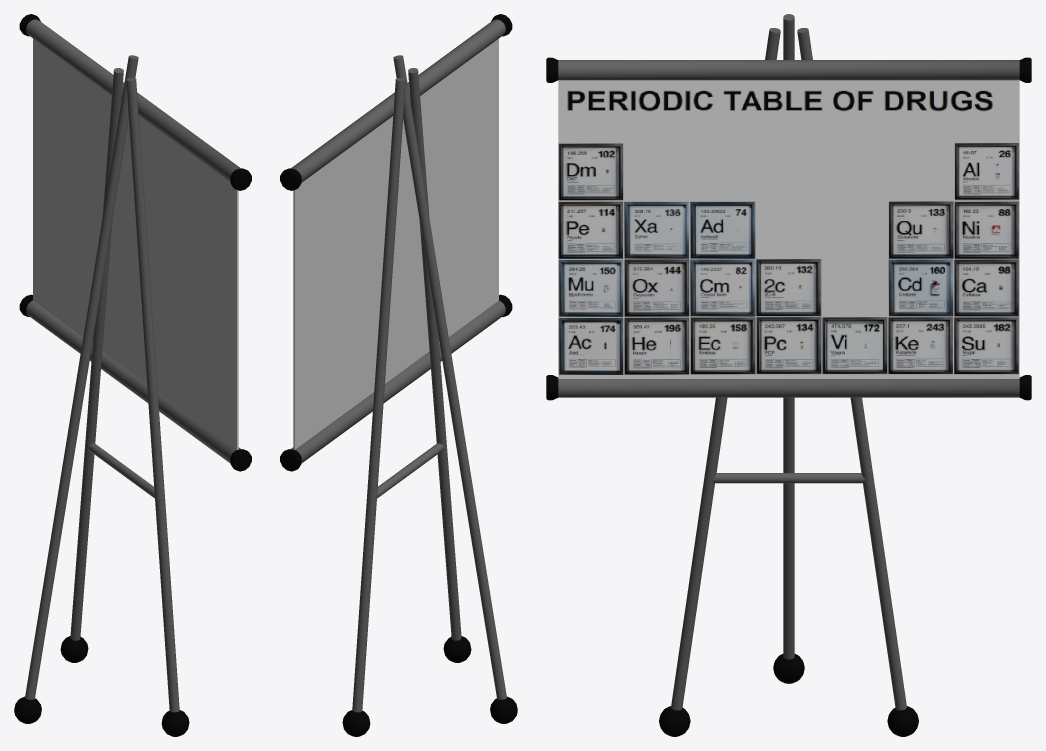
File: chart.fbx
3 views of the same model, side by side, from view 1: azimuth 30°, elevation 25°; view 2: azimuth 150°, elevation 25°; view 3: azimuth 270°, elevation 25° (orthographic). The views are drawn at different scales.
Visible parts, largest first — view 1: Sphere_2; view 2: Sphere_2; view 3: Sphere_2.
Part boxes in pixels (bbox=[...]): Sphere_2: bbox=[14, 14, 251, 736]; Sphere_2: bbox=[280, 14, 517, 736]; Sphere_2: bbox=[546, 14, 1031, 736].
Bounding box in the file's own units: 264 × 1247 × 758.
Materials: 4 (1 with a texture image).
